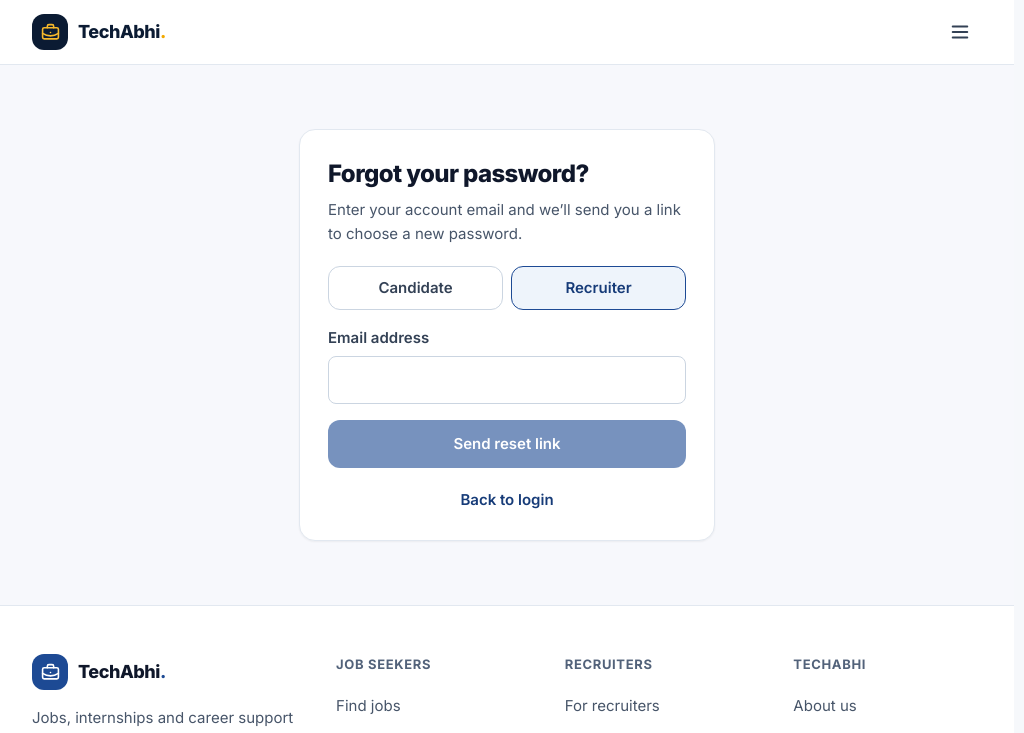
Test: password reset screens › forgot password submits type + email and shows the generic message
Check: the button "Send reset link" is shown, box [328, 420, 686, 468]
Type "r@acme.com" into the field labelled "Email address" at (507, 380), box [328, 356, 686, 404]
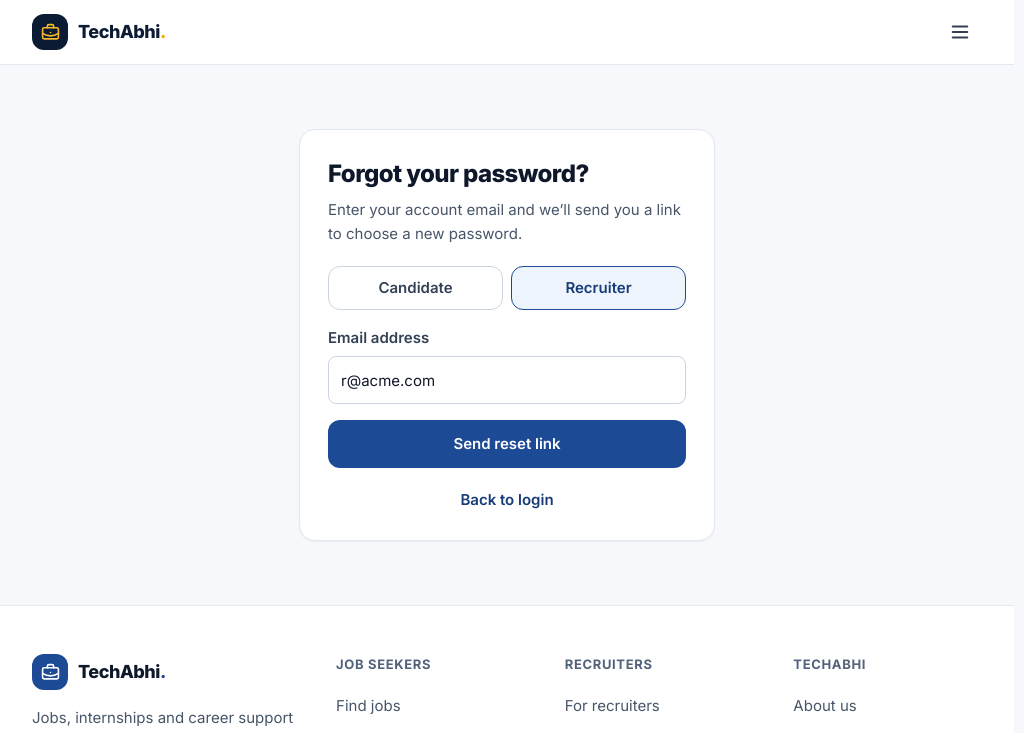
Check: the button "Send reset link" is enabled
Click the button "Send reset link" at (507, 444), box [328, 420, 686, 468]
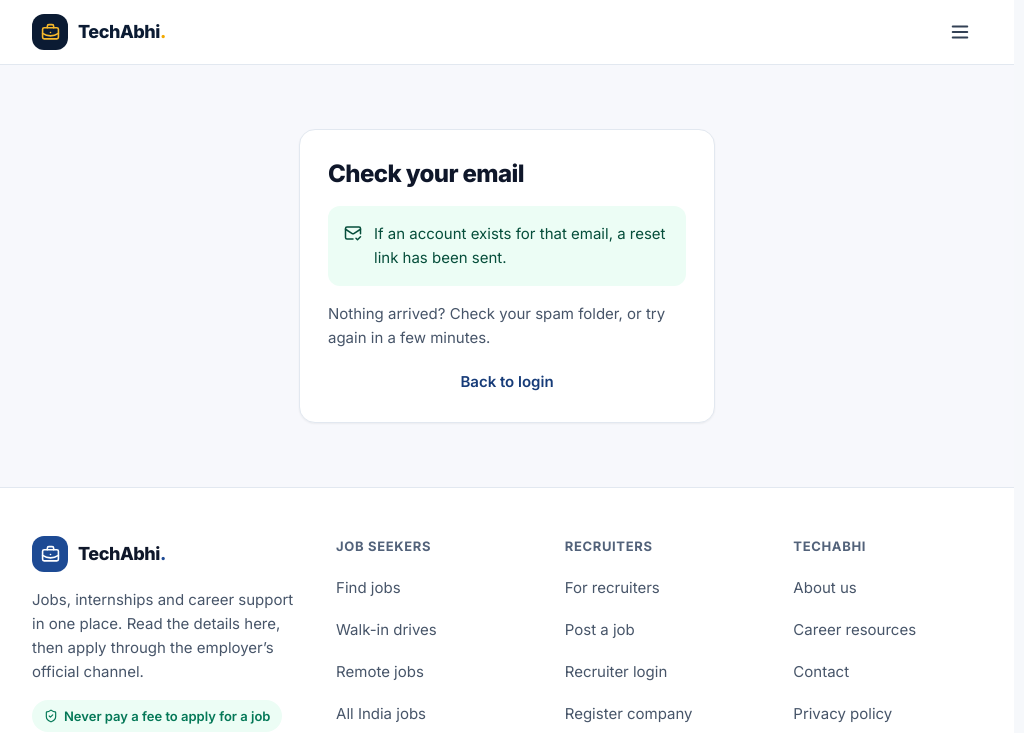
Check: the text "If an account exists" is shown, box [374, 224, 666, 267]
